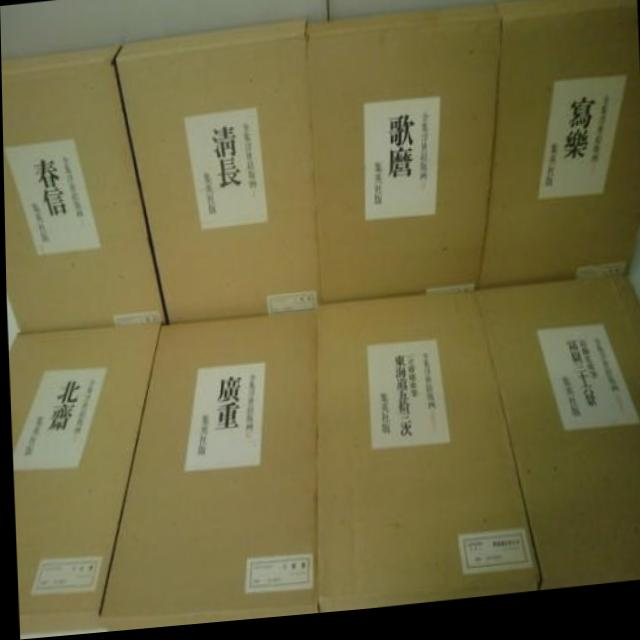box: (315, 298, 539, 615), (96, 314, 315, 634), (112, 22, 317, 327), (306, 9, 502, 310), (472, 286, 640, 595), (474, 0, 640, 297), (6, 326, 160, 633), (1, 43, 164, 331)
